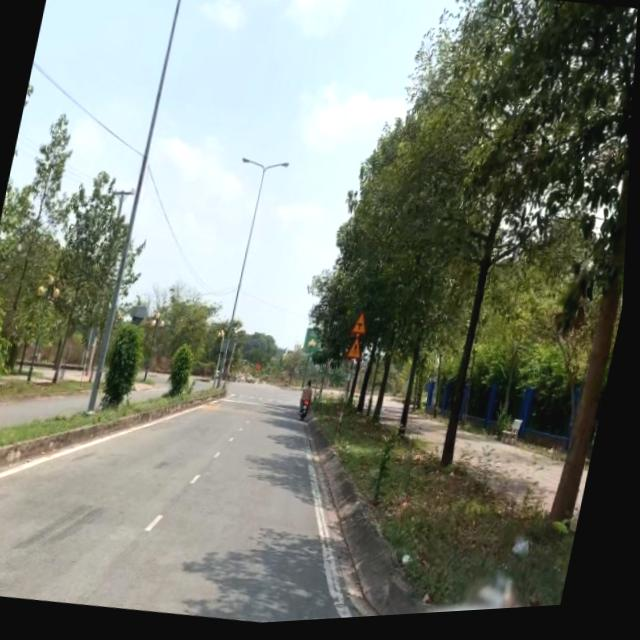Duong giao nhau cung cap: (353, 315, 374, 342)
Nguoi di bo cat ngang: (349, 339, 369, 365)
